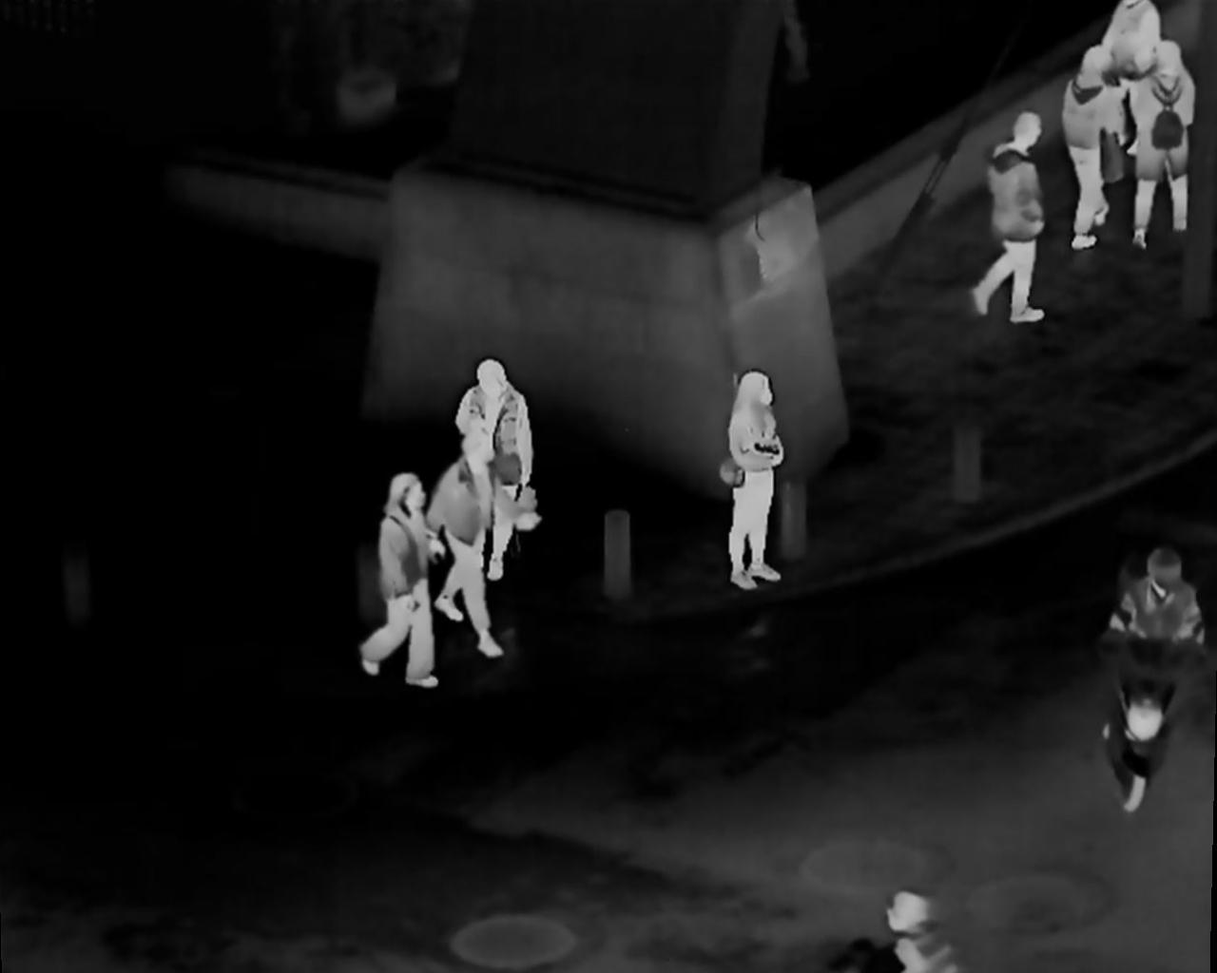person: (1110, 547, 1207, 758), (428, 435, 512, 662), (461, 360, 540, 585), (357, 476, 436, 687), (967, 108, 1047, 314), (722, 372, 792, 591), (1063, 41, 1126, 250), (1132, 45, 1194, 247)
